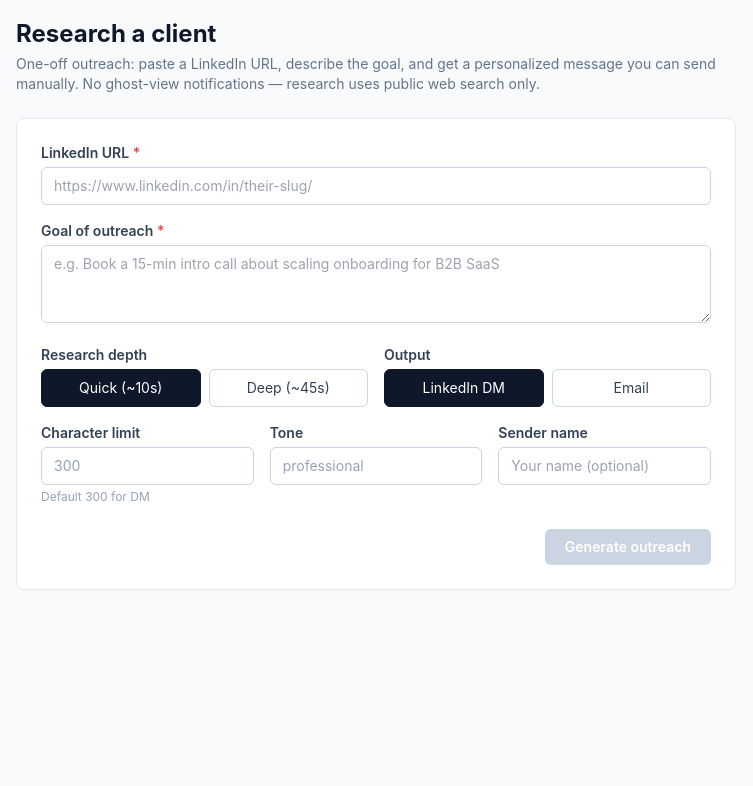
it: ResearchClient page › shows the email subject on the email output path
The width and height of the screenshot is (753, 786).
Click the button with test id "output-email". click: (631, 388)
box: [552,369,711,407]
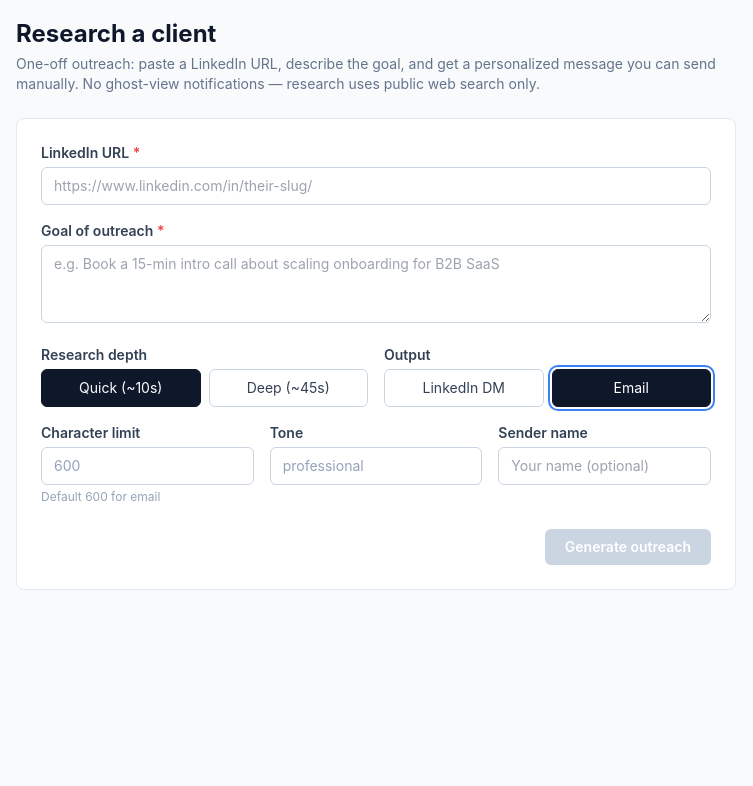
Type "https://www.linkedin.com/in/jane/" into the field with test id "input-linkedin-url". click: (376, 186)
box: [41,167,711,205]
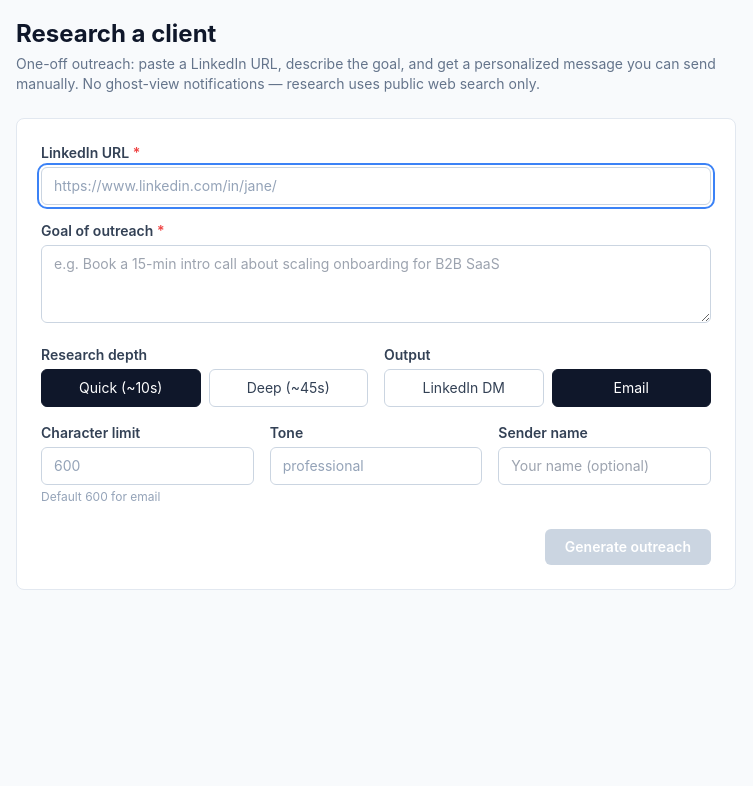
Type "Book a call" into the text box with test id "input-goal". click: (376, 284)
box: [41,245,711,323]
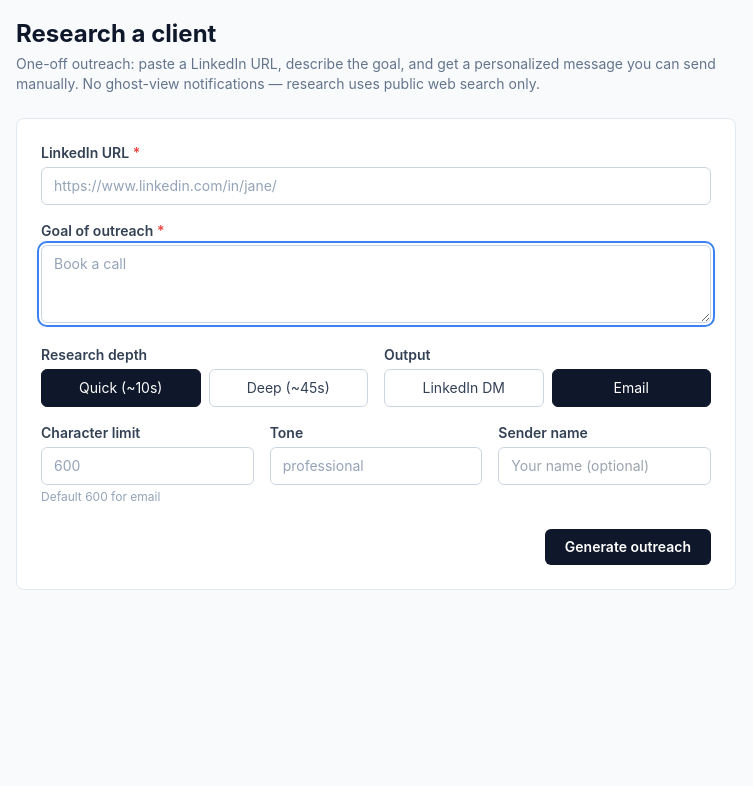
Click the button with test id "submit-research". click: (628, 547)
box: [545,529,711,565]
(page scrolled)
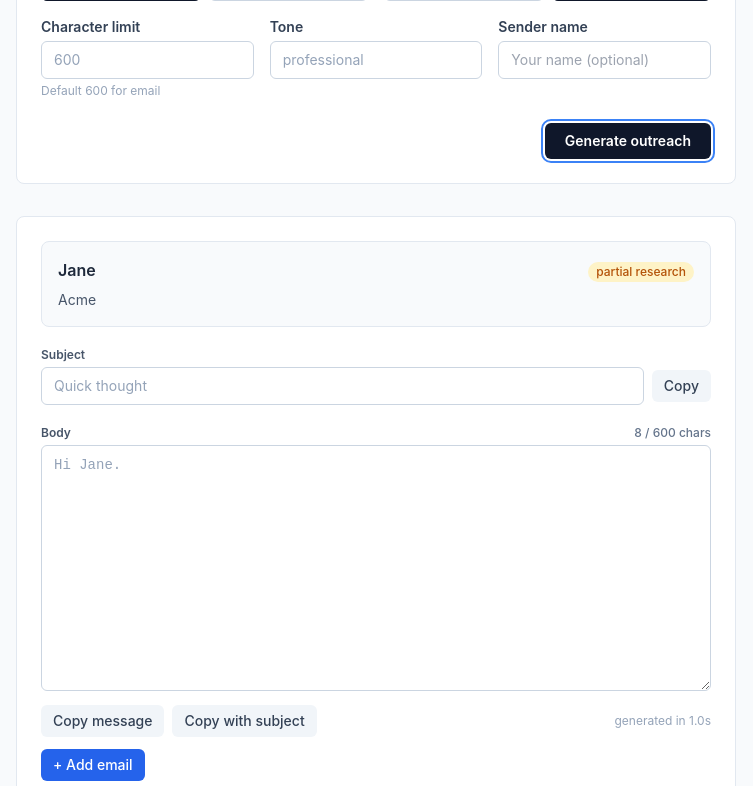
Expected: the field with test id "result-subject" holds "Quick thought", [41,367,644,405]
